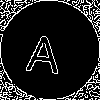A: (25, 25, 63, 74)
